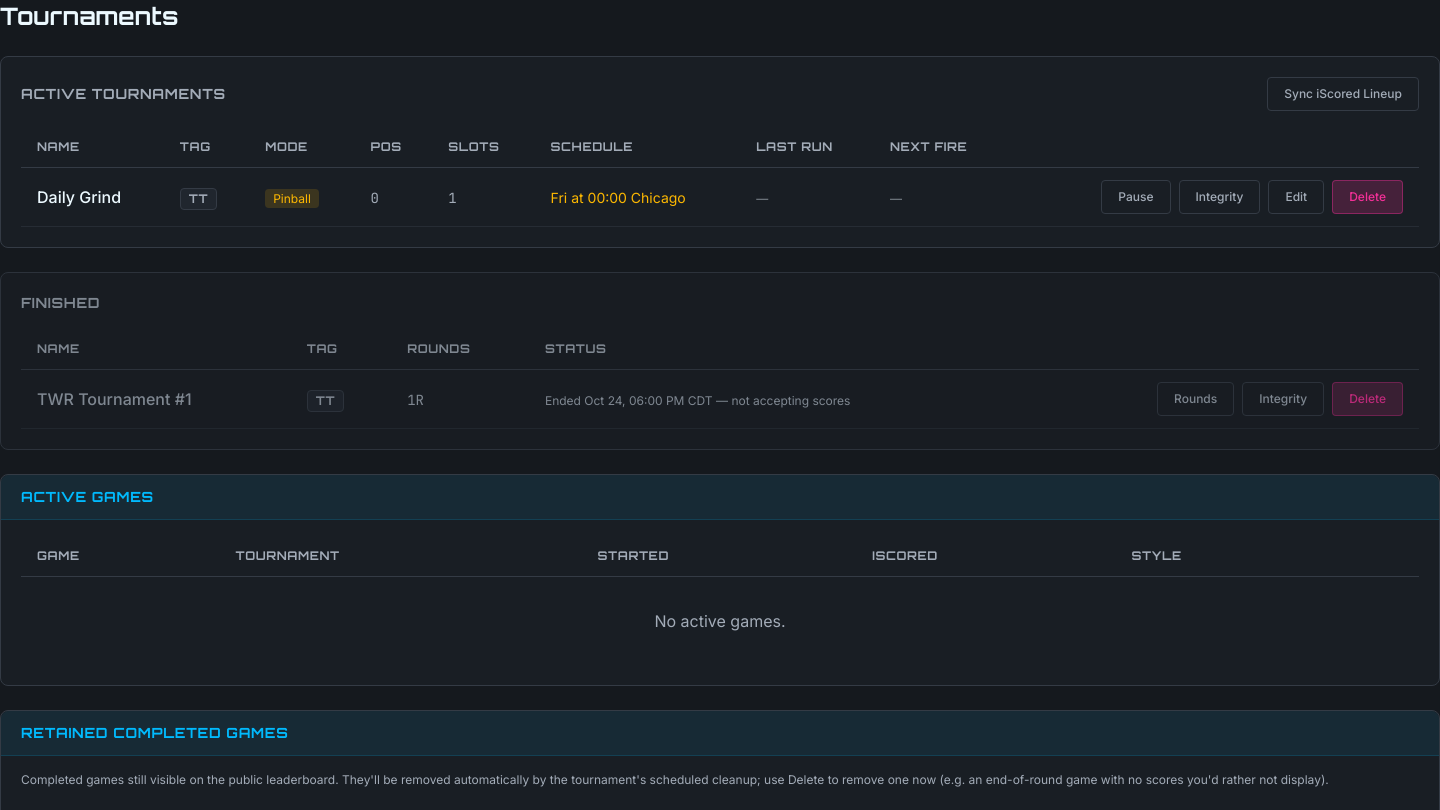
Test case: Tournaments page — finished events (W33) › locks the format in the edit form
Click the button "Edit": [1296, 197] box [1268,180,1324,214]
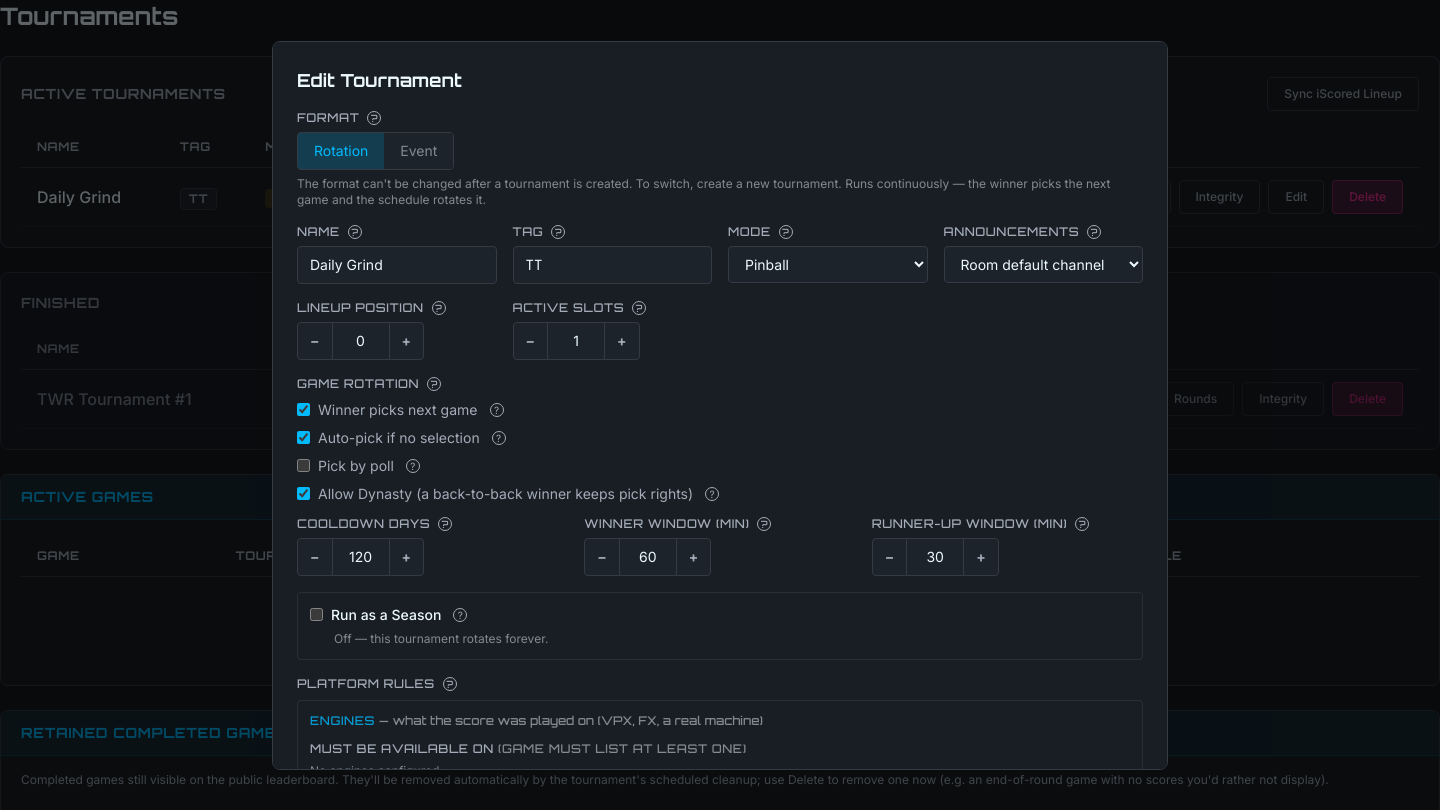
Expected: the button "Event" is shown, [384,132,453,168]
Expected: the text "format can't be changed after a tournament is created" is shown, [297,176,845,190]
